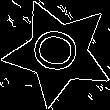O_E: (29, 27, 88, 79)
